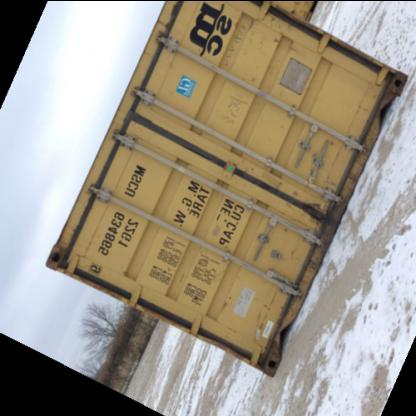Damage: (39, 202, 100, 278), (329, 130, 372, 198), (276, 184, 328, 236), (290, 238, 322, 303)
